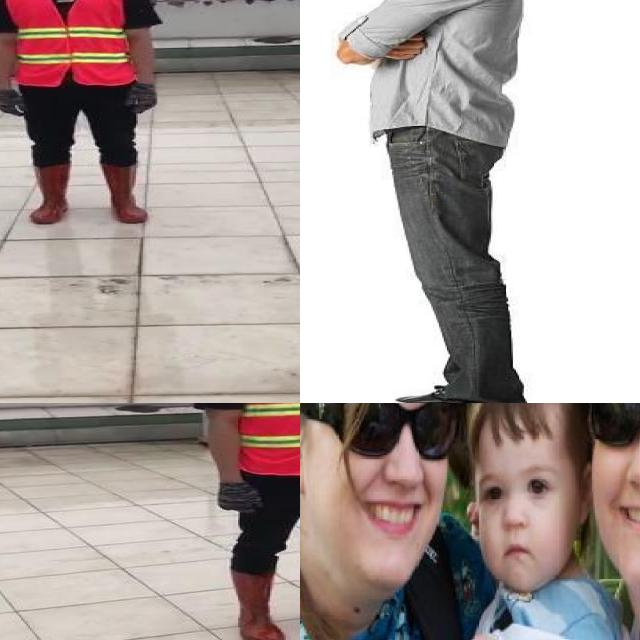No_Ear-Protection: (300, 403, 312, 497)
boots: (215, 563, 293, 640), (99, 165, 152, 225), (28, 166, 72, 225)
face_nomask: (322, 403, 455, 546), (478, 470, 566, 570), (587, 403, 640, 547)
glasses: (322, 403, 465, 463), (582, 403, 640, 466)
hand_glove: (219, 483, 261, 516), (127, 84, 159, 115), (0, 92, 26, 116)
head_nohelmet: (469, 403, 572, 444)
person: (333, 0, 530, 403), (0, 0, 175, 229), (183, 403, 300, 640)
vest: (6, 0, 134, 88), (238, 403, 300, 475)
